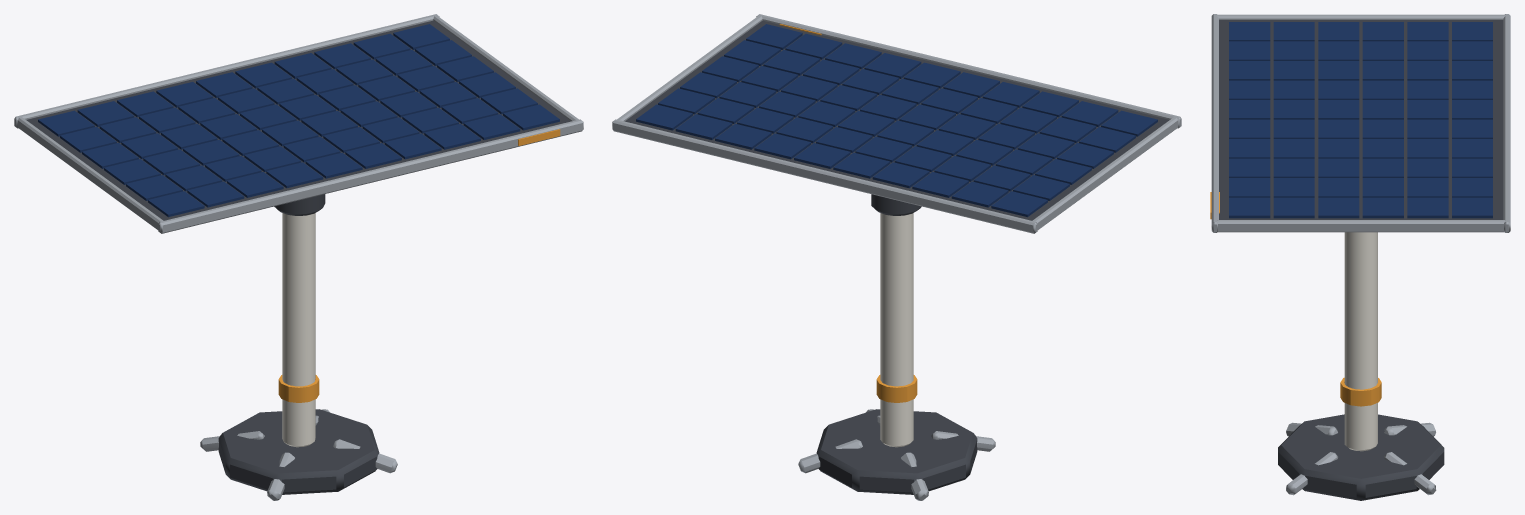
The model's file is solar_array_v4.glb.
3 renders of one model, left to right at view 1: azimuth 30°, elevation 25°; view 2: azimuth 150°, elevation 25°; view 3: azimuth 270°, elevation 25°, orthographic.
Visible parts, largest first — view 1: panel_pivot, body; view 2: panel_pivot, body; view 3: panel_pivot, body.
Boxes of the visible parts, x1,y1,x2,y2 form: panel_pivot: [14, 14, 583, 233]; body: [200, 194, 397, 500]; panel_pivot: [612, 14, 1181, 233]; body: [798, 194, 995, 500]; panel_pivot: [1210, 14, 1510, 232]; body: [1278, 232, 1444, 500].
Size of the model in its own units: 2.04 by 1.58 by 1.24.
